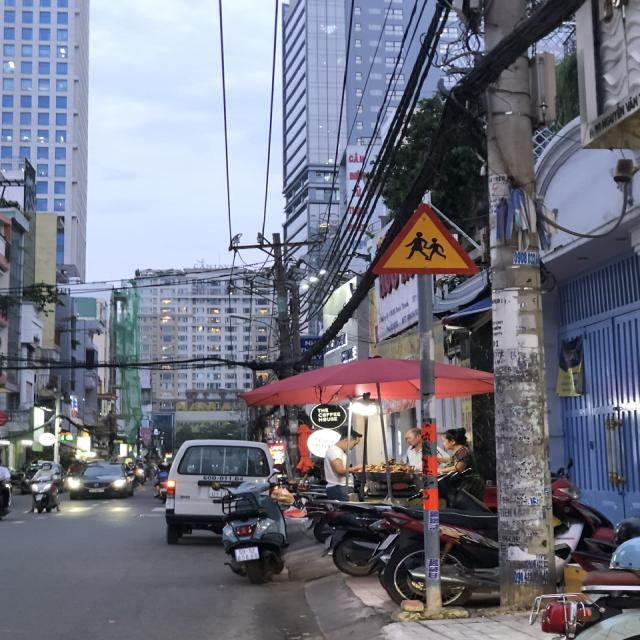Bien bao tre em: (362, 197, 487, 276)
